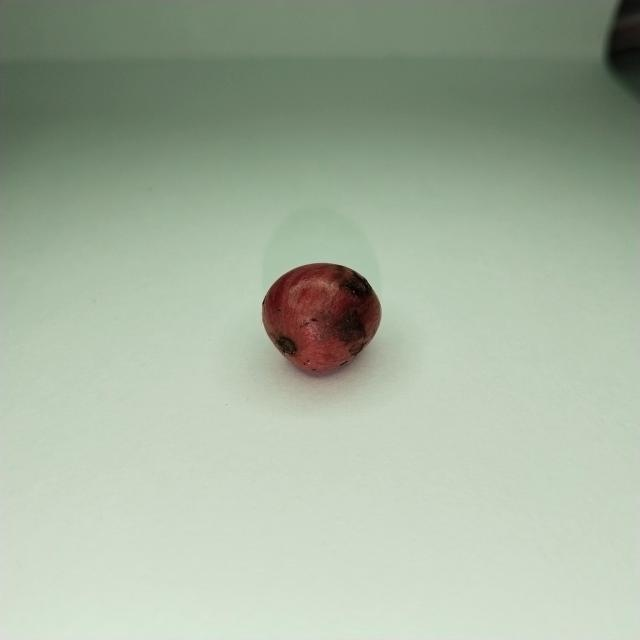Infectado: (262, 263, 380, 375)
